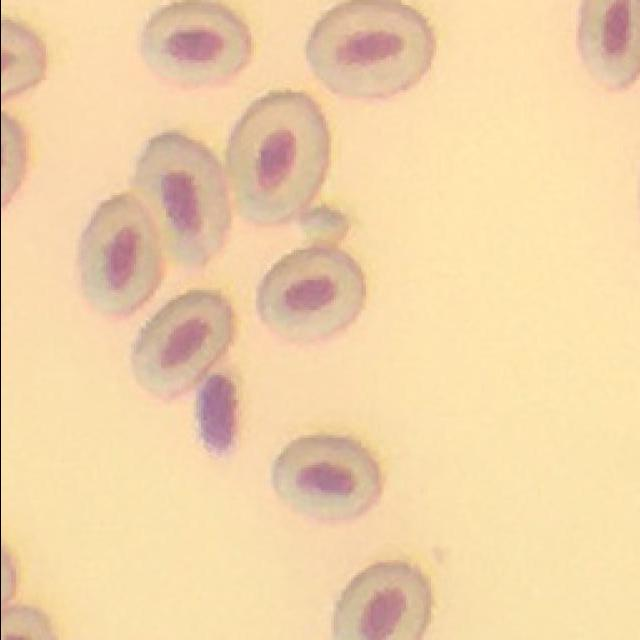RBC: (228, 92, 326, 222), (134, 134, 230, 265), (305, 2, 431, 96), (131, 291, 228, 398), (256, 249, 362, 339), (79, 195, 157, 312), (271, 436, 378, 519), (140, 4, 248, 81), (332, 564, 428, 640), (578, 0, 640, 89), (0, 20, 42, 97)
WBC: (195, 375, 233, 452)
